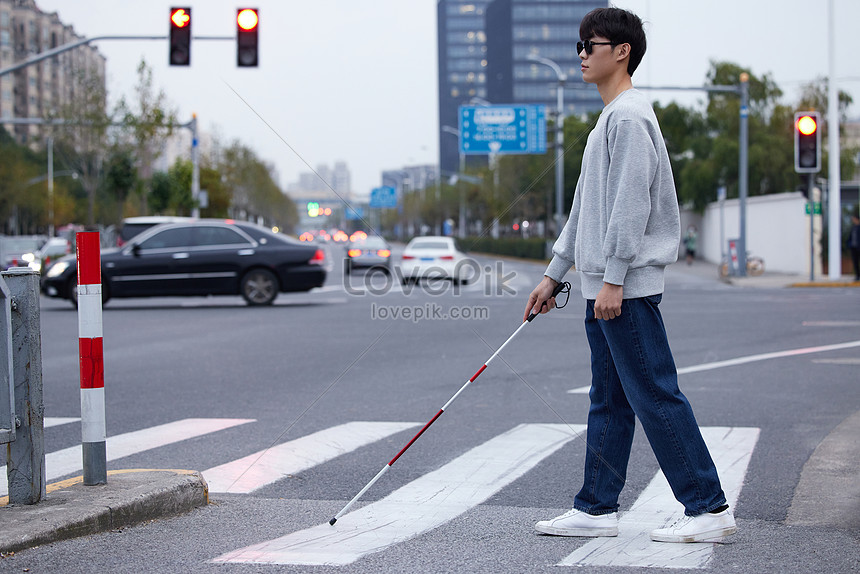person: (573, 9, 650, 96)
